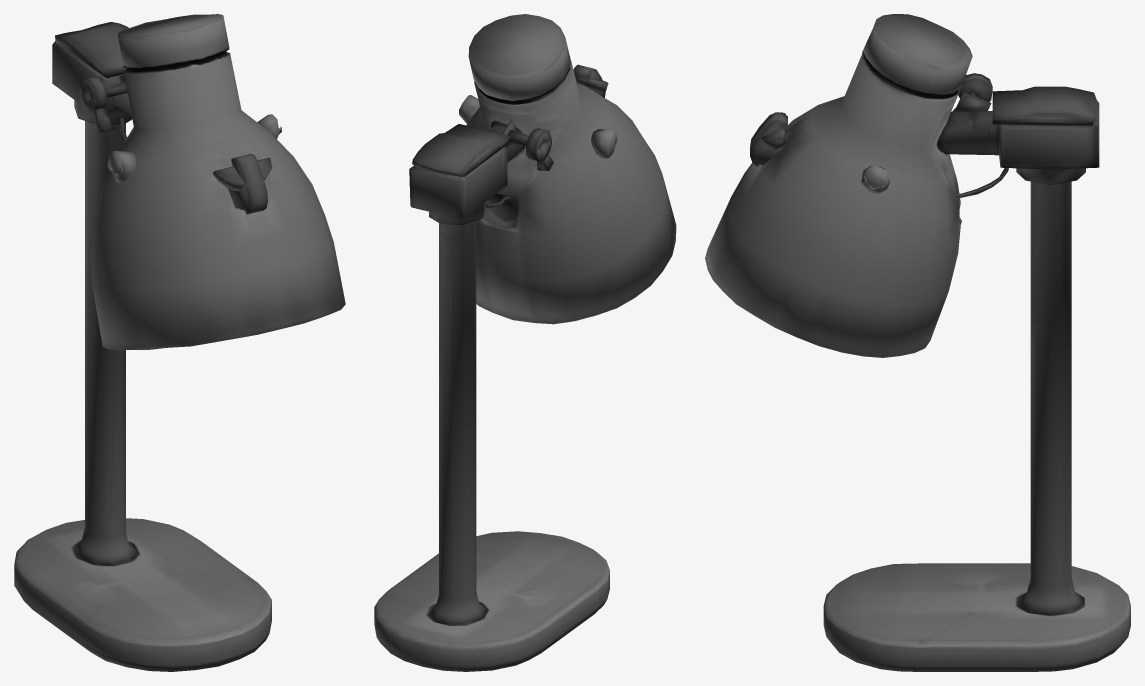
The model's file is ENV_desklamp_v001.fbx.
The picture shows the model from 3 angles, left to right: view 1: azimuth 30°, elevation 25°; view 2: azimuth 150°, elevation 25°; view 3: azimuth 270°, elevation 25°; orthographic projection. The views are drawn at different scales.
Parts seen in each view (by area): view 1: tripo_node_18e07173-64de-4490-8eb4-160be373e9f3; view 2: tripo_node_18e07173-64de-4490-8eb4-160be373e9f3; view 3: tripo_node_18e07173-64de-4490-8eb4-160be373e9f3.
Boxes of the visible parts, x1,y1,x2,y2 form: tripo_node_18e07173-64de-4490-8eb4-160be373e9f3: (14,14,345,671); tripo_node_18e07173-64de-4490-8eb4-160be373e9f3: (374,14,676,671); tripo_node_18e07173-64de-4490-8eb4-160be373e9f3: (705,14,1130,671).
Bounding box in the file's own units: 35.74 × 99.8 × 63.09.
Materials: 1 (1 with a texture image).
